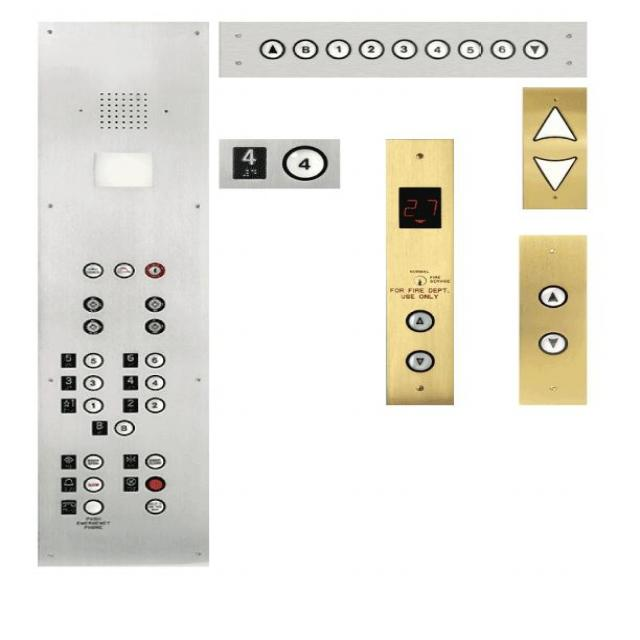1: (324, 38, 352, 59), (81, 397, 102, 413)
2: (358, 38, 384, 58), (143, 396, 165, 413), (119, 396, 139, 413)
3: (390, 38, 417, 59), (58, 374, 78, 391), (82, 374, 102, 390)
4: (280, 145, 326, 180), (230, 145, 268, 180), (424, 39, 449, 59), (120, 374, 139, 391), (144, 374, 164, 390)
5: (456, 39, 482, 59), (82, 352, 104, 368), (58, 352, 78, 368)
6: (490, 39, 514, 59), (144, 350, 166, 368), (119, 351, 139, 368)
B: (291, 37, 318, 59), (112, 418, 134, 436), (90, 419, 107, 435)
alarm: (58, 475, 78, 493)
call: (58, 498, 78, 515)
close: (119, 452, 139, 470)
down: (536, 331, 567, 354), (405, 349, 434, 372), (522, 39, 547, 59)
empty: (89, 148, 154, 189), (80, 498, 104, 515)
keyhole: (143, 317, 165, 333), (143, 262, 164, 278), (81, 317, 102, 333), (81, 296, 102, 311), (144, 296, 164, 311)
led: (394, 184, 442, 230)
open: (60, 452, 76, 470)
s1: (58, 396, 78, 414)
stop: (120, 474, 140, 492)
text_alarm bell: (82, 475, 104, 492)
text_blur: (82, 452, 105, 470), (144, 452, 166, 469), (144, 497, 166, 514), (144, 475, 166, 491)
unknown: (112, 262, 134, 278), (81, 262, 102, 278)
up: (404, 309, 435, 331), (537, 285, 567, 307), (258, 38, 284, 59)
